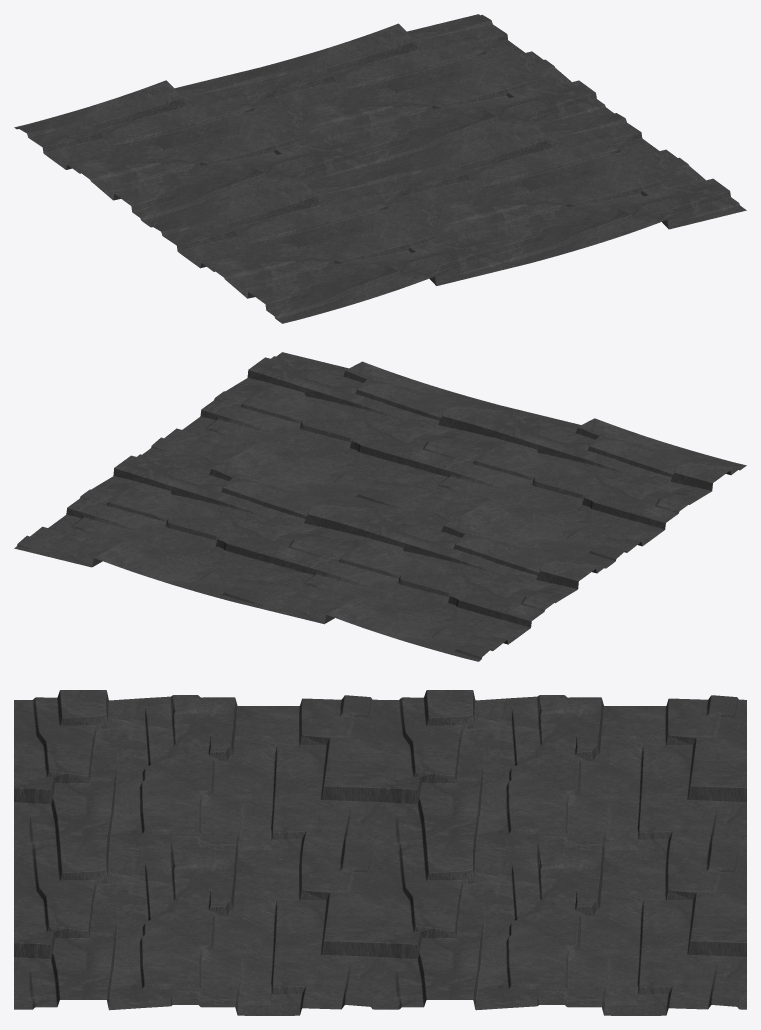
Rendered from CaveFloorL.fbx.
3 views of the same model, one above another, from view 1: azimuth 30°, elevation 25°; view 2: azimuth 150°, elevation 25°; view 3: azimuth 270°, elevation 25° (orthographic). The views are drawn at different scales.
Visible parts, largest first — view 1: SM_ENV_NATURE_Cave_Wall_L_02.mo; view 2: SM_ENV_NATURE_Cave_Wall_L_02.mo; view 3: SM_ENV_NATURE_Cave_Wall_L_02.mo.
Part boxes in pixels (left/top/right/bottom): SM_ENV_NATURE_Cave_Wall_L_02.mo: left=14, top=14, right=746, bottom=323; SM_ENV_NATURE_Cave_Wall_L_02.mo: left=14, top=352, right=746, bottom=661; SM_ENV_NATURE_Cave_Wall_L_02.mo: left=14, top=690, right=746, bottom=1015.
Bounding box in the file's own units: 1640 × 58.26 × 1640.
Materials: 1 (1 with a texture image).
